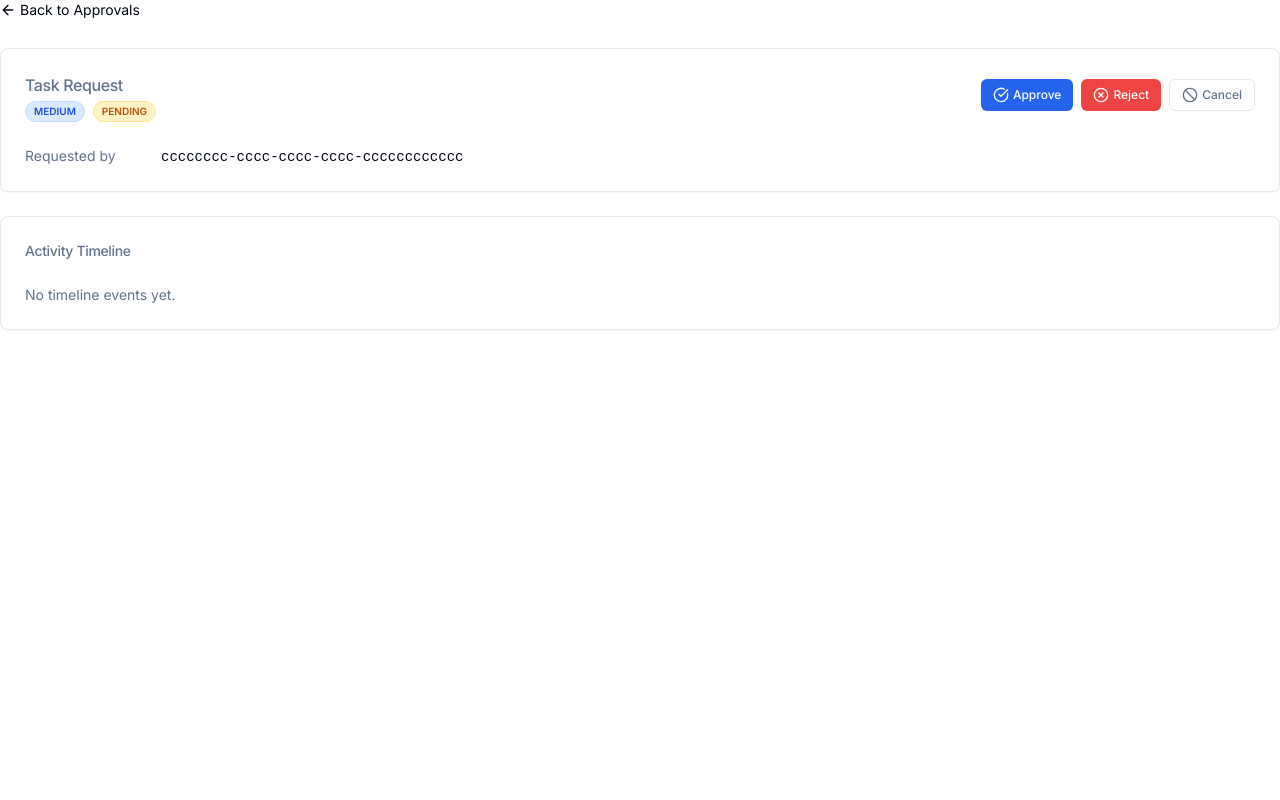
Test case: ApprovalDetailPage › approve dialog › closes approve dialog on cancel
This screenshot has width=1280, height=800.
Click the button with test id "approve-btn". click: coordinates (1027, 95)
box: [981,79,1073,111]
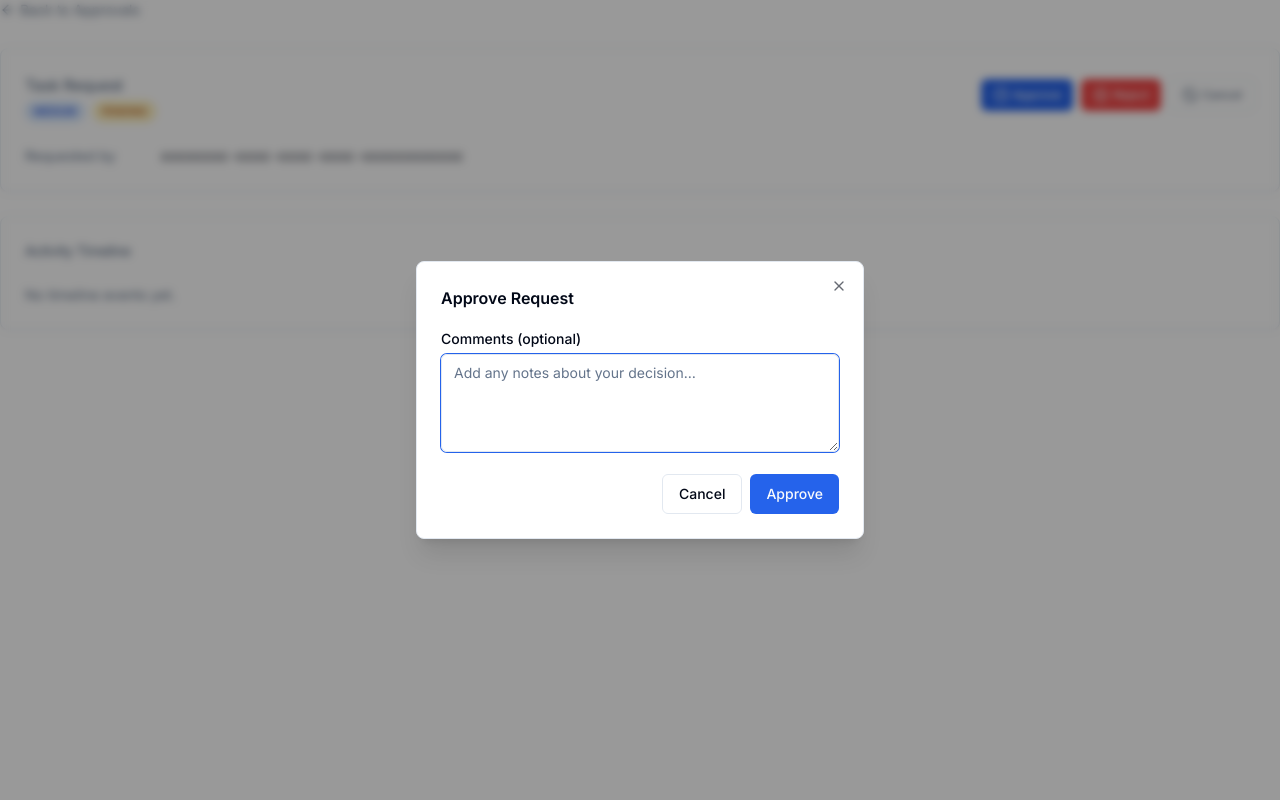
Click the button "Cancel". click: coordinates (702, 494)
box: [662,474,742,514]
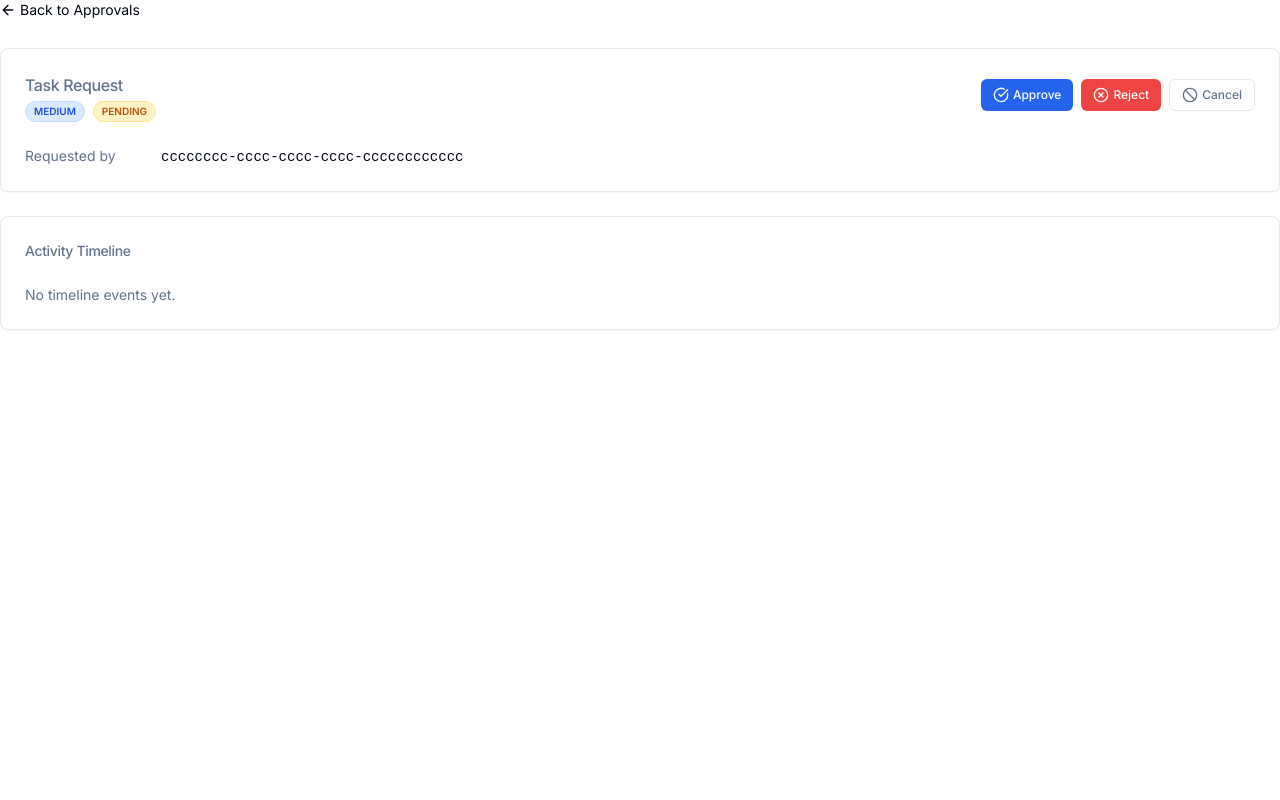
Check: the dialog with test id "approve-dialog" is gone
